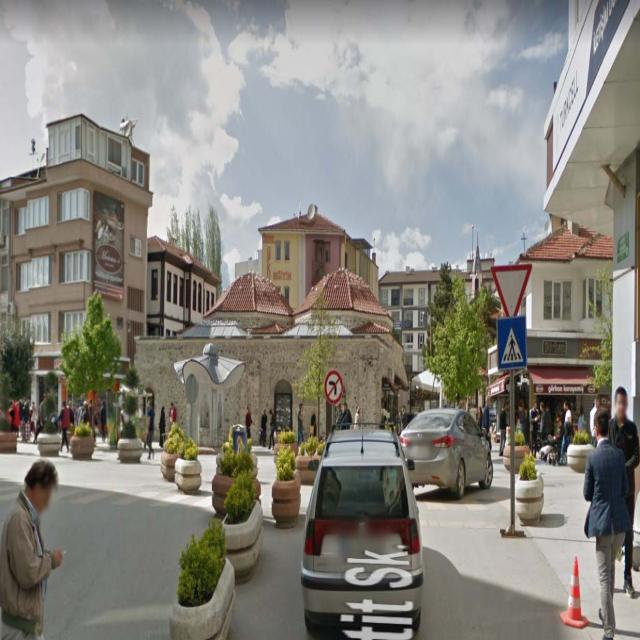soladonulmez: (324, 370, 344, 406)
